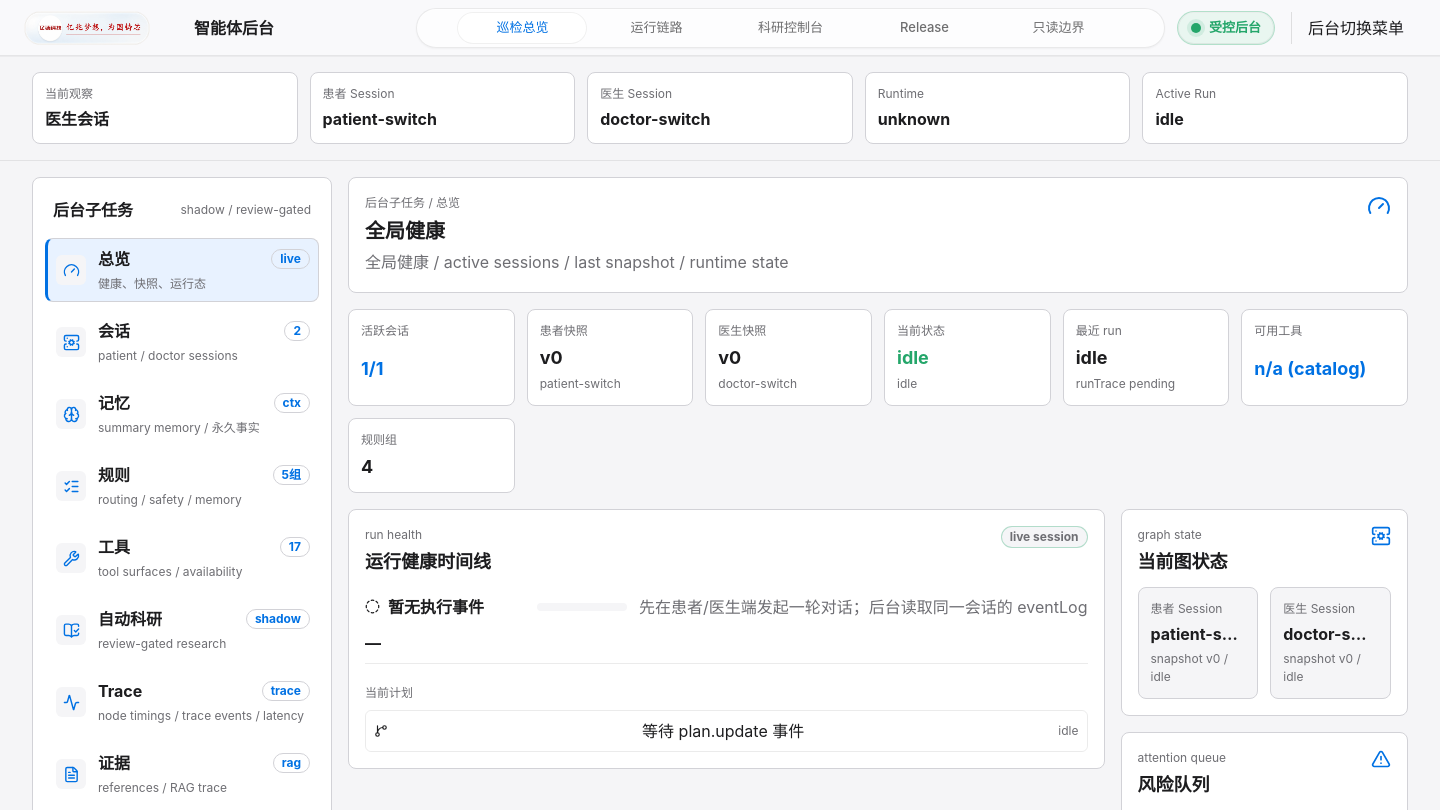
Test case: AgentAdminView › shows only the selected sessions page
Click the button "会话 2 patient / doctor sessions": {"x": 114, "y": 331} [45,310,319,374]
(page scrolled)
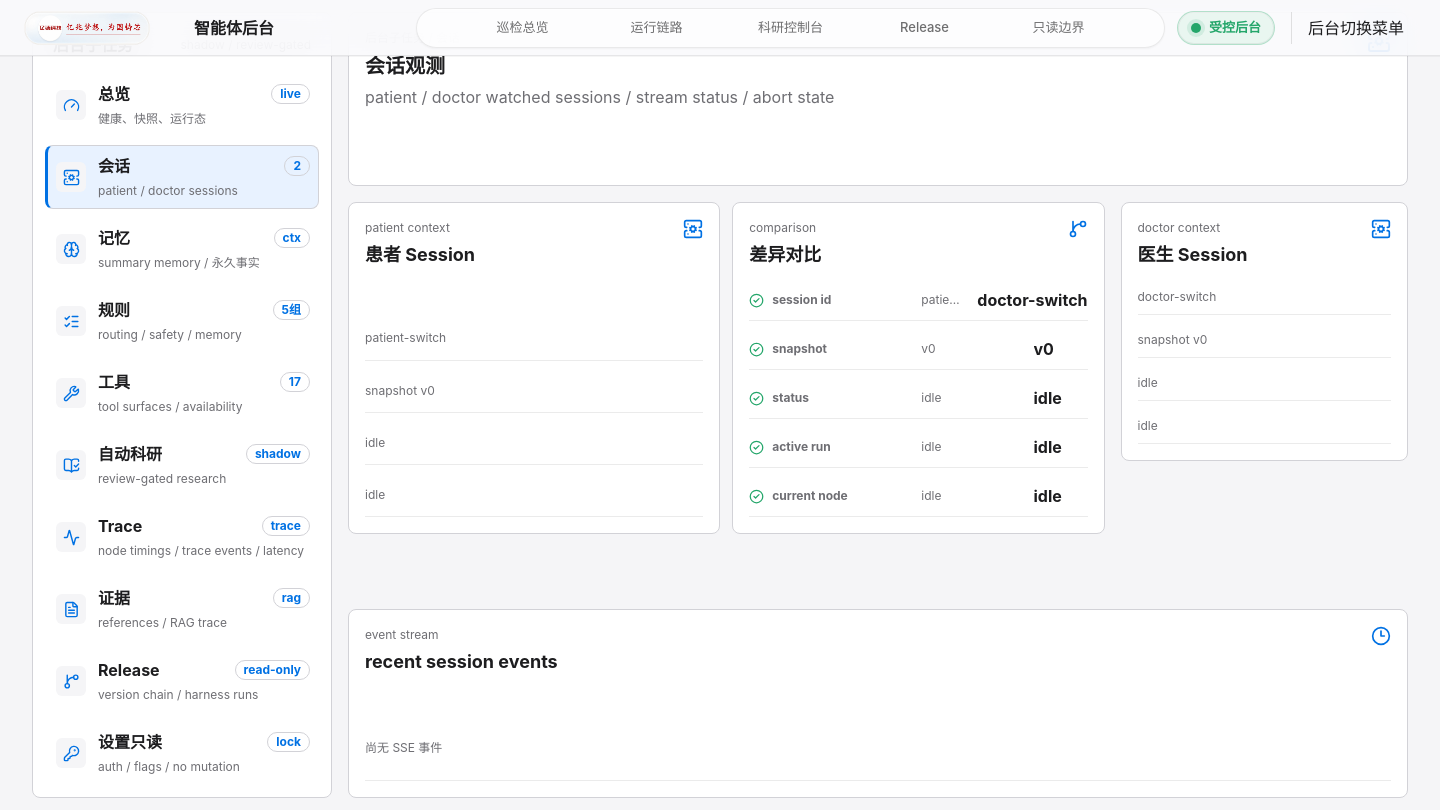
Result: the element with test id "agent-admin-task-page" shows "差异对比" at [749,244,821,265]
Result: the element with test id "agent-admin-task-page" no longer shows "运行健康时间线"
